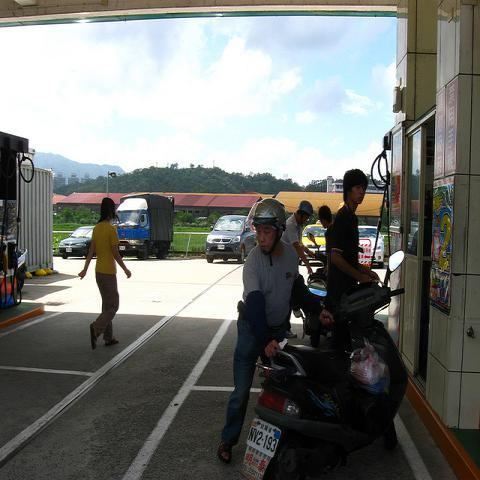car: (206, 215, 255, 264), (58, 226, 95, 260), (358, 225, 385, 267), (300, 223, 327, 265)
motorcycle: (236, 253, 412, 479)
truck: (114, 196, 174, 257)
